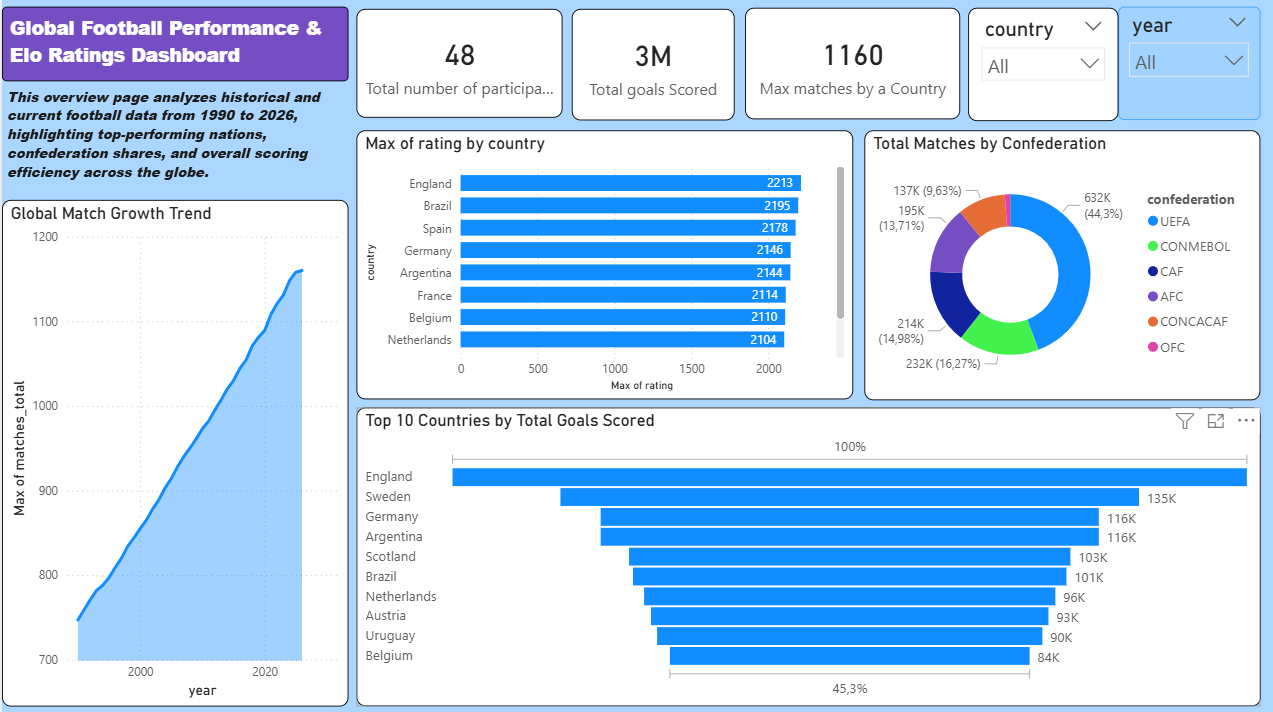

The page's visual inventory and layout, read from the dashboard file:
{"tool":"powerbi","page":{"name":"Global Overview","canvas":[1280,720],"ordinal":0},"visuals":[{"type":"slicer","title":"YEAR","fields":{"Values":["elo_ratings_wc2026.year"]},"box":[1123.3,6.7,143.3,88.9],"z":0},{"type":"clusteredBarChart","fields":{"Category":["elo_ratings_wc2026.country"],"Y":["Max(elo_ratings_wc2026.rating)"]},"box":[356.7,106.7,500,303.3],"z":1000},{"type":"donutChart","title":"Total Matches by Confederation","fields":{"Category":["elo_ratings_wc2026.confederation"],"Y":["Sum(elo_ratings_wc2026.matches_total)"]},"box":[0,471.1,348.9,240],"z":2000},{"type":"funnel","title":"Top 10 Countries by Total Goals Scored","fields":{"Y":["Sum(elo_ratings_wc2026.goals_for)"],"Category":["elo_ratings_wc2026.country"]},"box":[356.7,417.8,910,293.3],"z":3000},{"type":"card","fields":{"Values":["Sum(elo_ratings_wc2026.goals_for)"]},"box":[573.3,8.9,164.4,86.7],"z":4000},{"type":"card","fields":{"Values":["Max(elo_ratings_wc2026.matches_total)"]},"box":[747.8,7.8,216.7,87.8],"z":5000},{"type":"card","fields":{"Values":["Count(elo_ratings_wc2026.country)"]},"box":[356.7,8.9,207.8,86.7],"z":6000},{"type":"slicer","title":"Cross-country filter","fields":{"Values":["elo_ratings_wc2026.country"]},"box":[972.2,7.8,151.1,87.8],"z":7000},{"type":"areaChart","title":"Global Match Growth Trend","fields":{"Category":["elo_ratings_wc2026.year"],"Y":["Max(elo_ratings_wc2026.matches_total)"]},"box":[864.4,106.7,402.2,303.3],"z":8000},{"type":"textbox","box":[0,6.7,348.9,75.6],"z":9000},{"type":"textbox","box":[0,82.2,348.9,50],"z":10000},{"type":"barChart","title":"Max of wins by country","fields":{"Y":["Max(elo_ratings_wc2026.wins)"],"Category":["elo_ratings_wc2026.country","elo_ratings_wc2026.year"],"Series":["elo_ratings_wc2026.country"]},"box":[0,132.2,347.8,331.1],"z":11000}]}

Visuals, with their boxes in screenshot pixels (x1, y1, x2, y2), scaled from the page's 1280x720 canvas onto the 1273x712 screenshot:
"YEAR" slicer: box=[1117, 7, 1260, 95]
clusteredBarChart - elo_ratings_wc2026.country x Max(elo_ratings_wc2026.rating): box=[355, 106, 852, 405]
"Total Matches by Confederation" donutChart: box=[0, 466, 347, 703]
"Top 10 Countries by Total Goals Scored" funnel: box=[355, 413, 1260, 703]
card - Sum(elo_ratings_wc2026.goals_for): box=[570, 9, 734, 95]
card - Max(elo_ratings_wc2026.matches_total): box=[744, 8, 959, 95]
card - Count(elo_ratings_wc2026.country): box=[355, 9, 561, 95]
"Cross-country filter" slicer: box=[967, 8, 1117, 95]
"Global Match Growth Trend" areaChart: box=[860, 106, 1260, 405]
textbox: box=[0, 7, 347, 81]
textbox: box=[0, 81, 347, 131]
"Max of wins by country" barChart: box=[0, 131, 346, 458]
